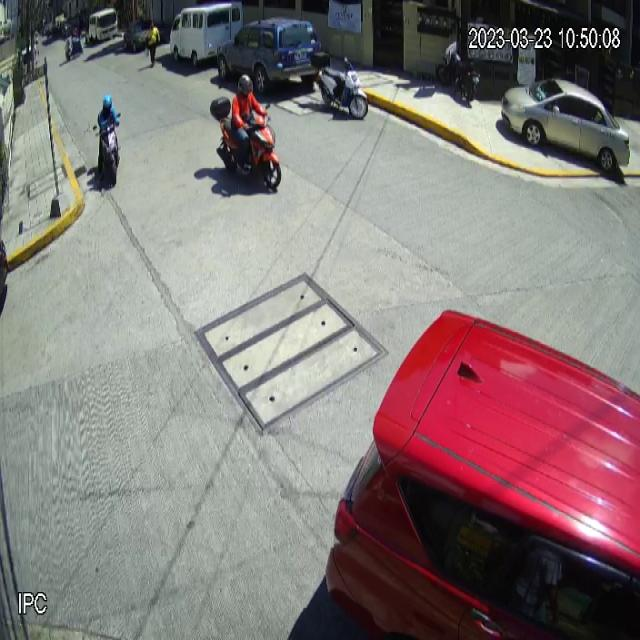Car: (500, 76, 630, 173), (215, 15, 322, 89)
Motorcycle: (216, 99, 282, 190), (311, 51, 368, 120)
Van: (170, 0, 244, 66)
